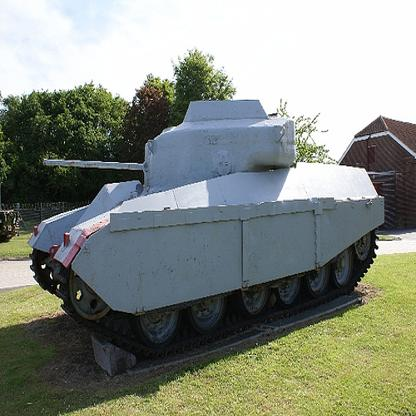Tank: (24, 96, 385, 356)
